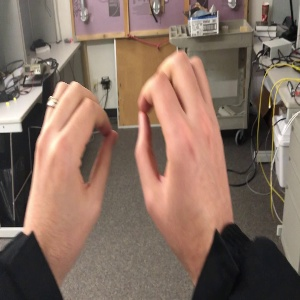hand: (135, 51, 232, 222), (26, 81, 118, 233)
